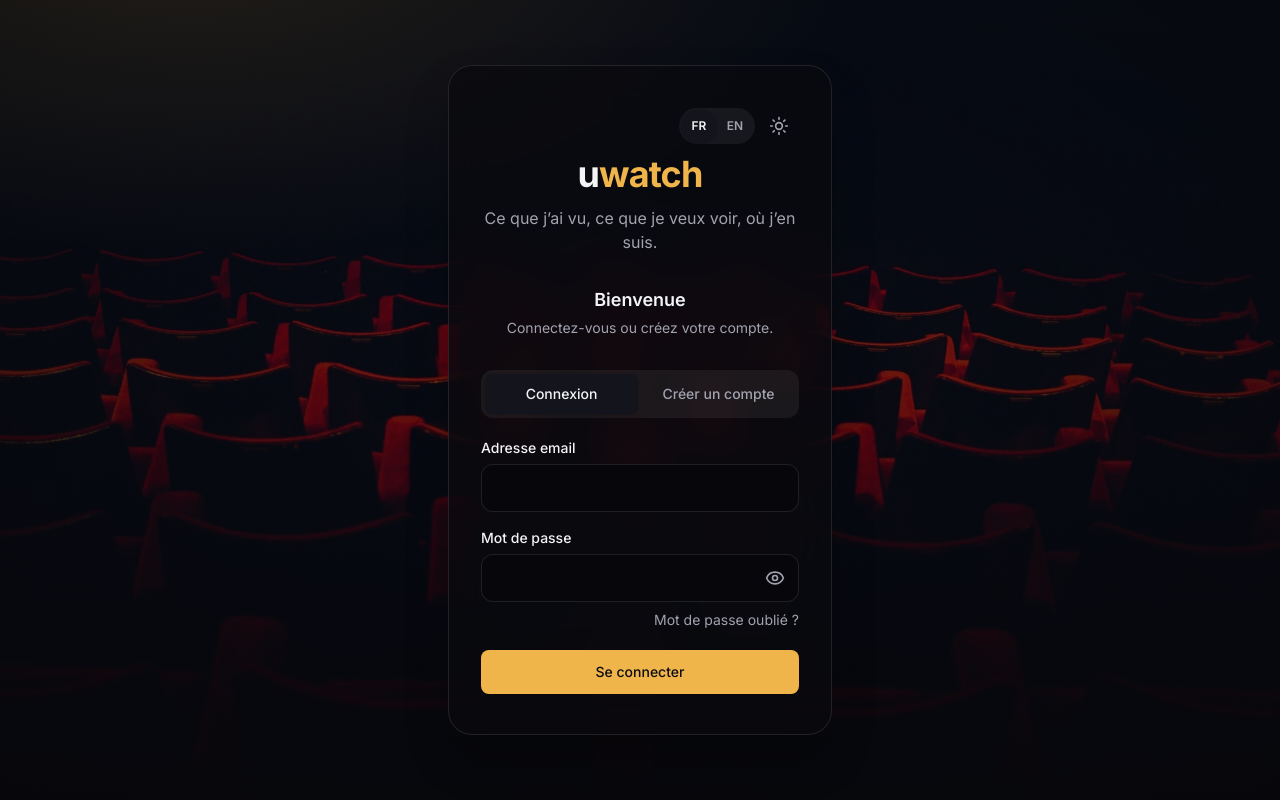
LoginPage › creates an account and asks to confirm the email
Click the button "Créer un compte". click: [718, 394]
box: top-left (642, 374), bottom-right (795, 414)
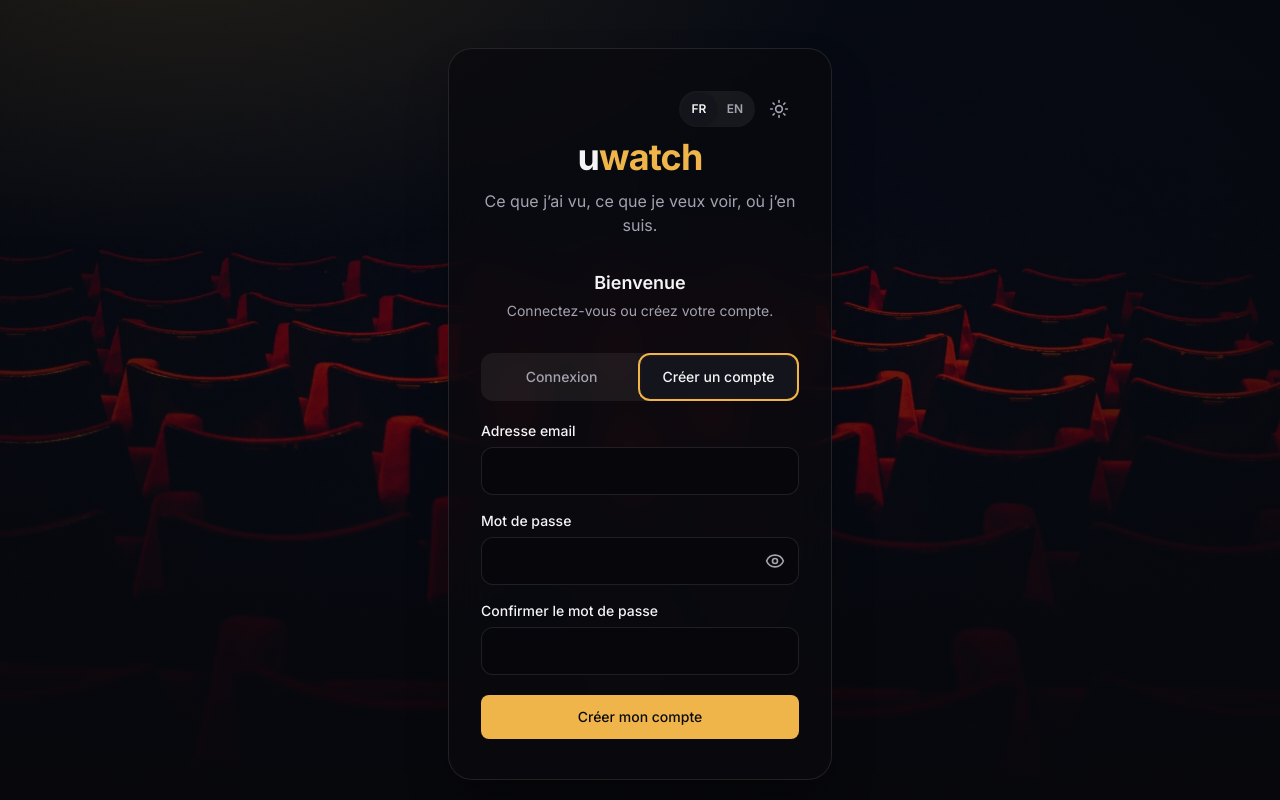
Type "me@example.com" into the field labelled "Adresse email". click: [640, 471]
box: top-left (481, 447), bottom-right (799, 495)
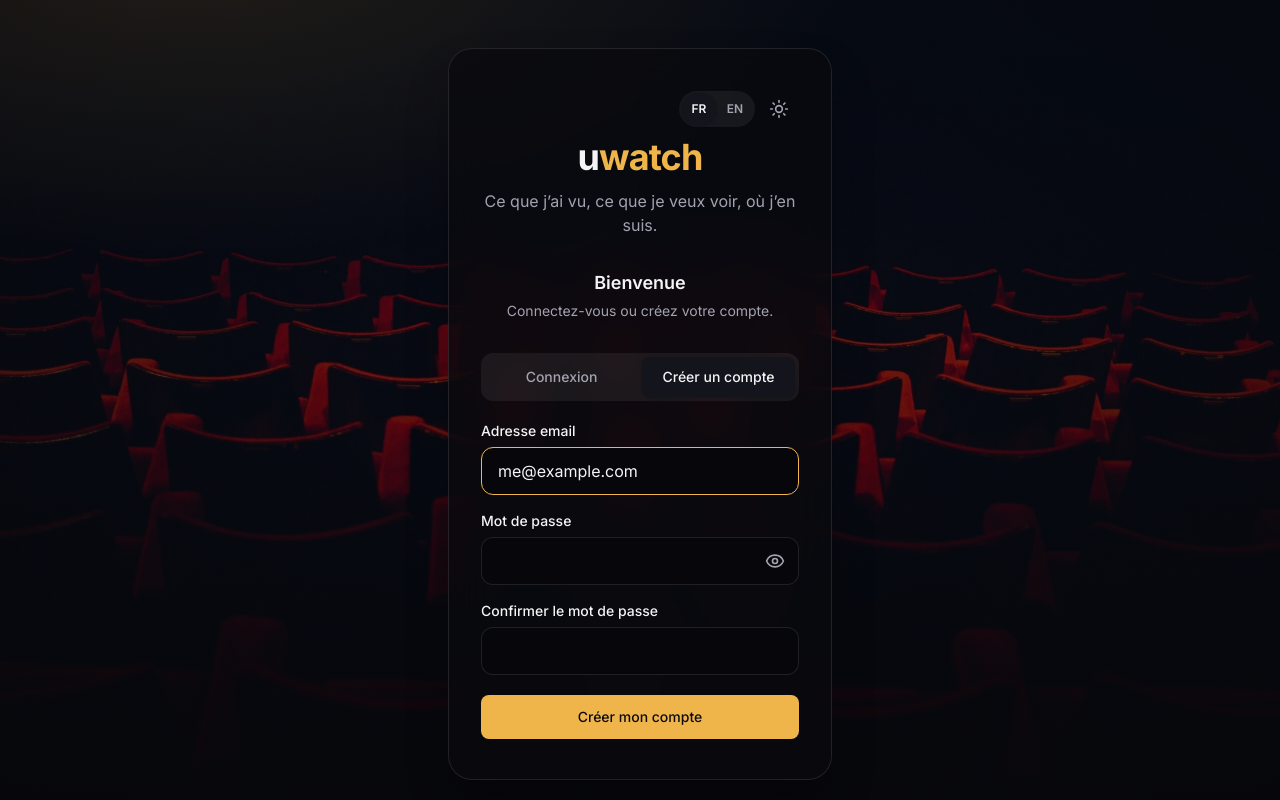
Type "secret123" into the password field labelled "Mot de passe". click: [640, 561]
box: top-left (481, 537), bottom-right (799, 585)
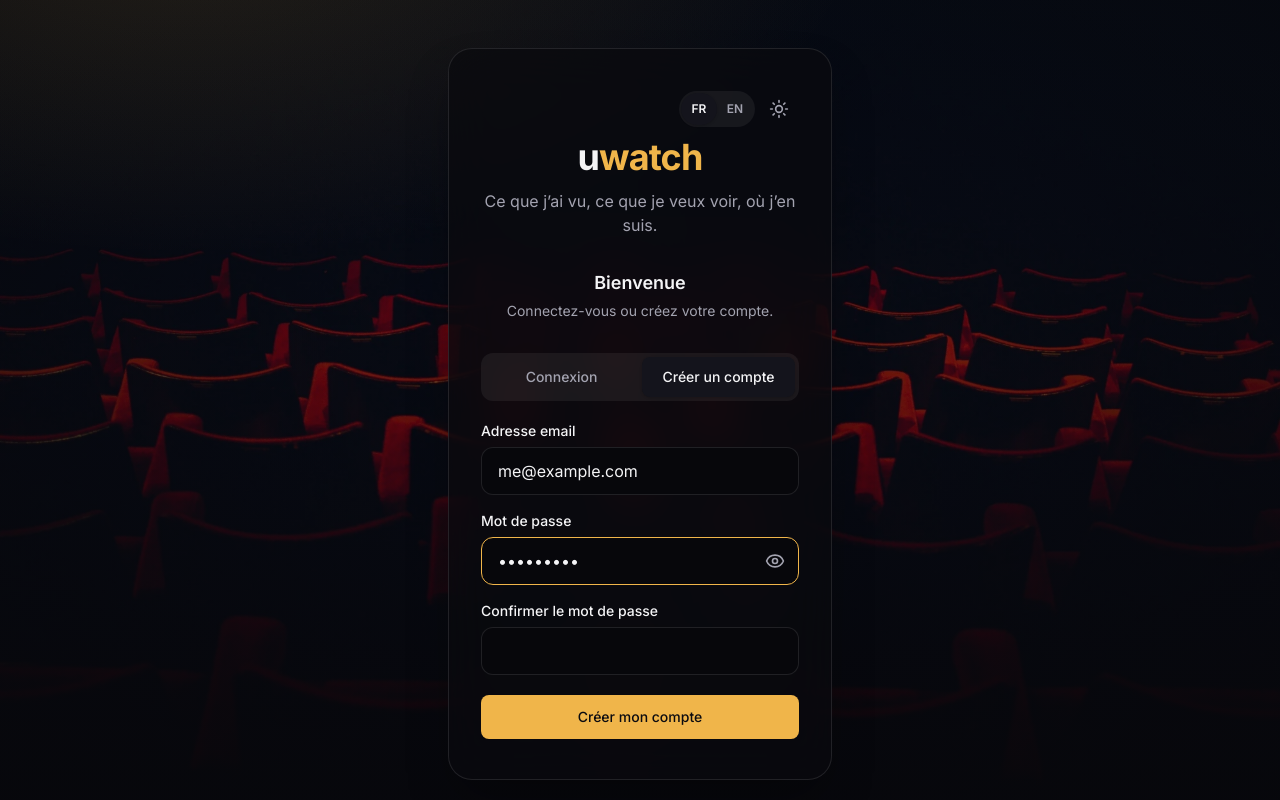
Type "secret123" into the password field labelled "Confirmer le mot de passe". click: [640, 651]
box: top-left (481, 627), bottom-right (799, 675)
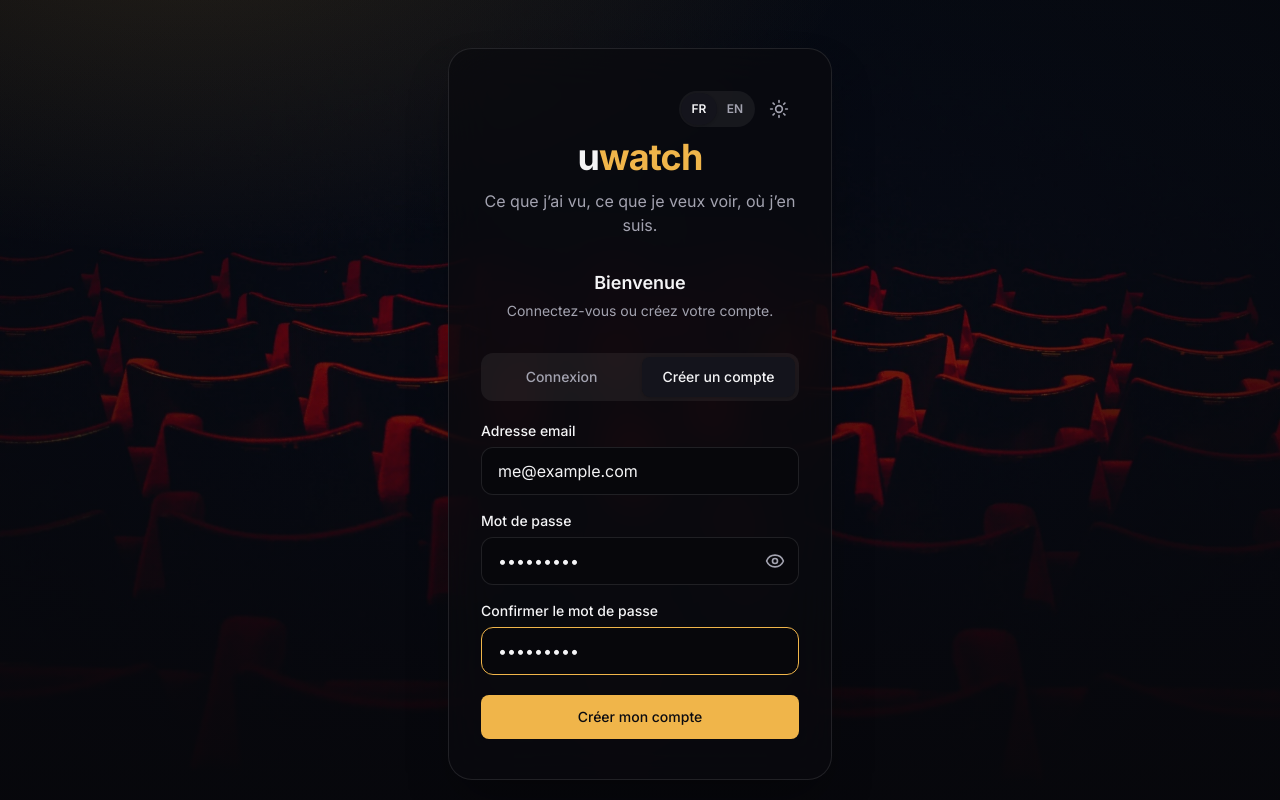
Click the button "Créer mon compte". click: [640, 717]
box: top-left (481, 695), bottom-right (799, 739)
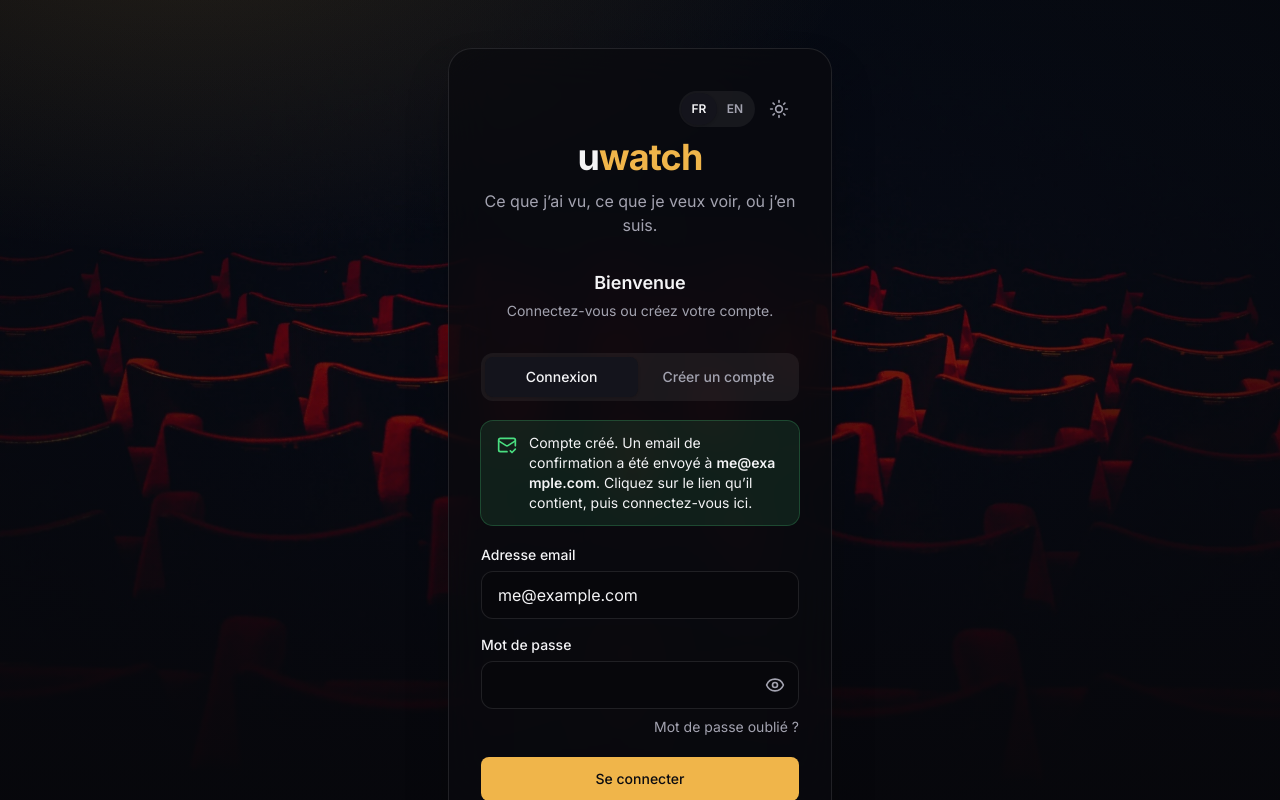
Now the text "Un email de confirmation a été envoyé" is shown, box top-left (529, 434), bottom-right (716, 471)
